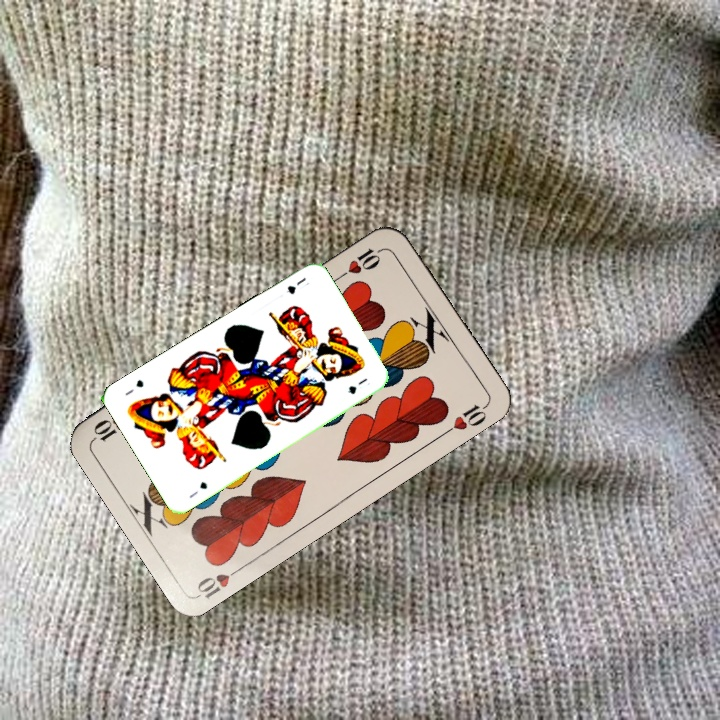GU: (282, 273, 312, 297), (185, 478, 210, 501)
H10: (193, 561, 247, 601), (333, 244, 386, 282)
